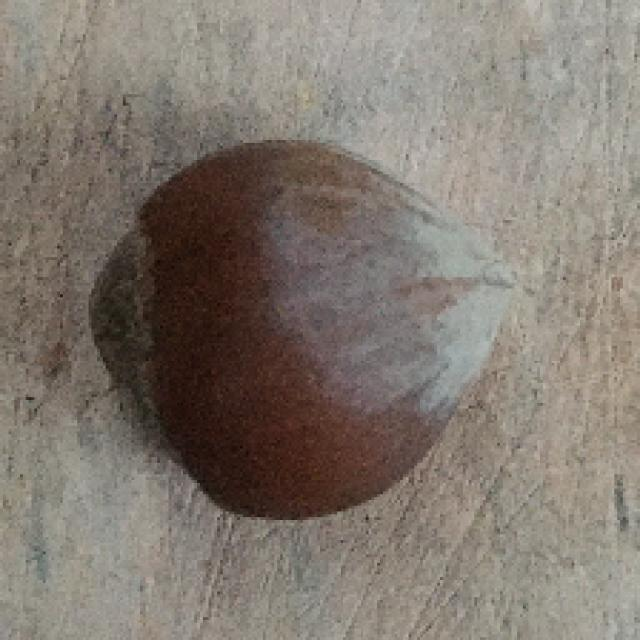qualityHazelnut: (92, 141, 530, 520)
